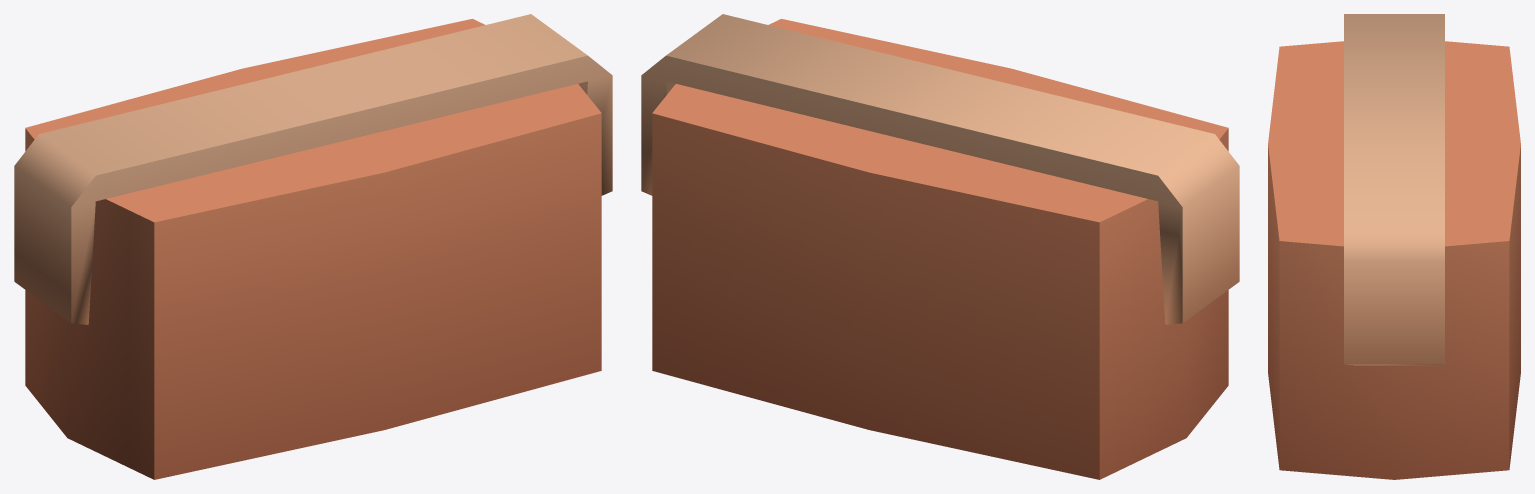
File: cc0-box-long-lod1.glb
3 renders of one model, left to right at view 1: azimuth 30°, elevation 25°; view 2: azimuth 150°, elevation 25°; view 3: azimuth 270°, elevation 25°, orthographic. The views are drawn at different scales.
Parts seen in each view (by area): view 1: part_0; view 2: part_0; view 3: part_0.
Boxes of the visible parts, x1,y1,x2,y2 form: part_0: (14, 14, 612, 479); part_0: (641, 14, 1239, 479); part_0: (1268, 14, 1520, 479).
Size of the model in its own units: 1.1 by 0.55 by 0.5.
1 material, 1 textured.
